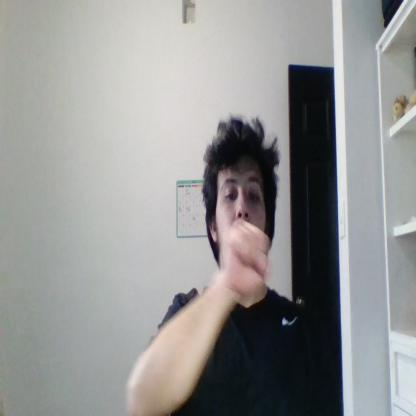S: (221, 219, 270, 306)
